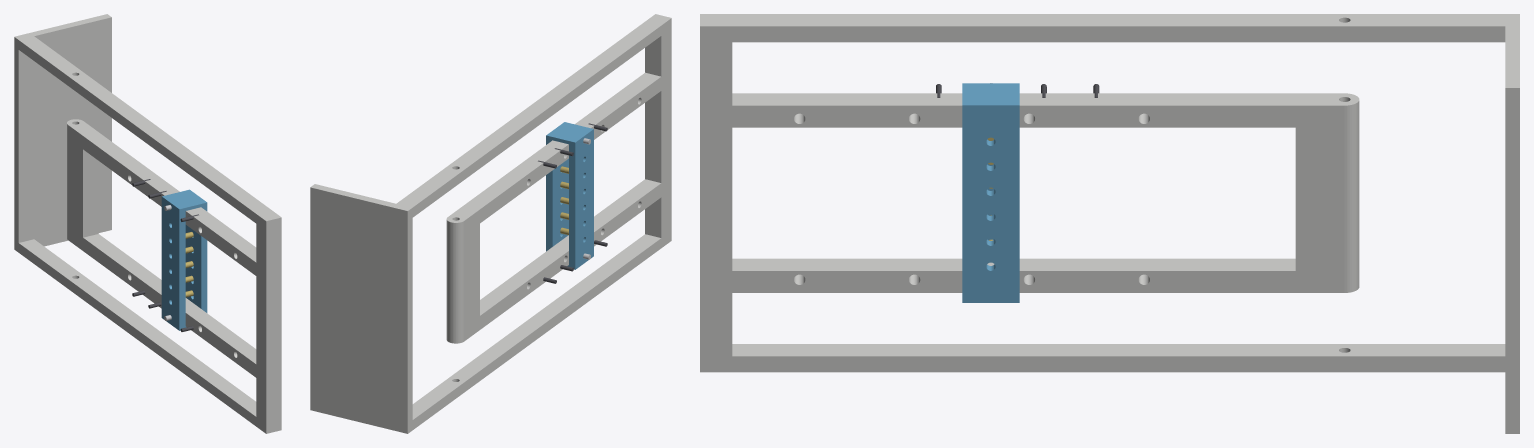
File: static_2.glb
3 views of the same model, side by side, from view 1: azimuth 30°, elevation 25°; view 2: azimuth 150°, elevation 25°; view 3: azimuth 270°, elevation 25° (orthographic). The views are drawn at different scales.
Parts seen in each view (by area): view 1: world; view 2: world; view 3: world.
Part boxes in pixels (x1,y1,x2,y2): world: [14, 14, 281, 433]; world: [310, 14, 671, 433]; world: [700, 14, 1519, 433].
Bounding box in the file's own units: 0.0854 × 0.1662 × 0.3569.
